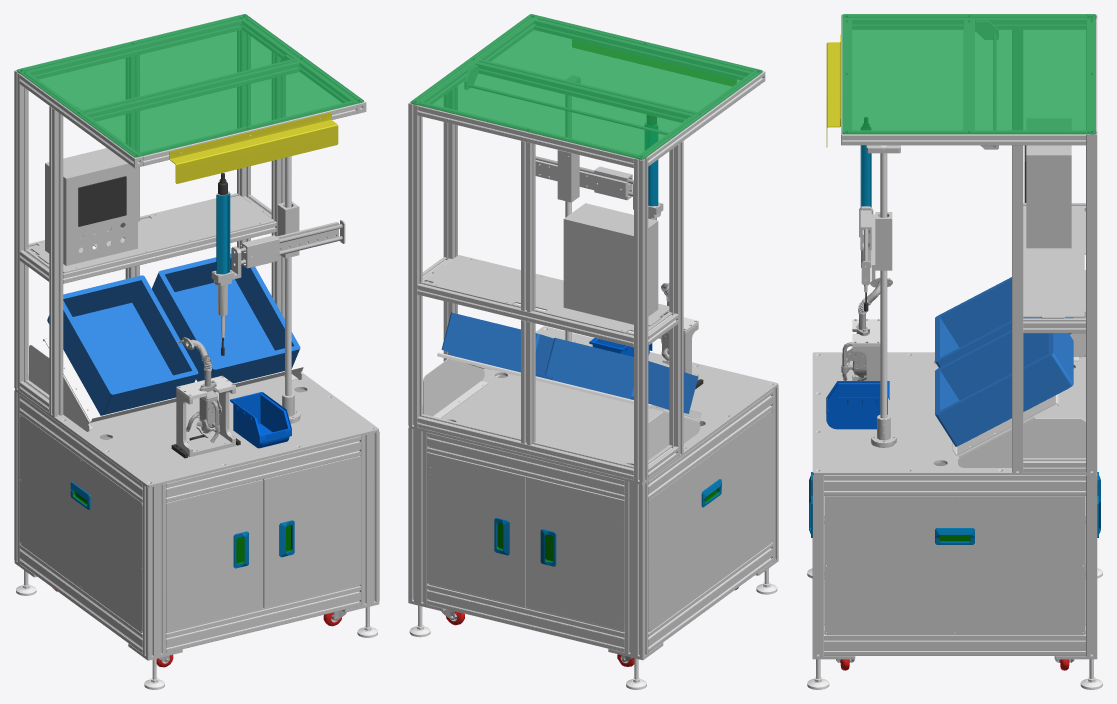
The model's file is station-01.glb.
3 renders of one model, left to right at view 1: azimuth 30°, elevation 25°; view 2: azimuth 150°, elevation 25°; view 3: azimuth 270°, elevation 25°, orthographic. The views are drawn at different scales.
Parts seen in each view (by area): view 1: part_000, part_004, part_010, part_006, part_005, part_008, part_002, part_009, part_003; view 2: part_000, part_004, part_010, part_006, part_002, part_003, part_005, part_008; view 3: part_000, part_004, part_010, part_006, part_009, part_002, part_005, part_003, part_008.
Part boxes in pixels (bbox=[...]): part_000: bbox=[14, 14, 379, 660]; part_004: bbox=[16, 14, 363, 157]; part_010: bbox=[47, 253, 300, 415]; part_006: bbox=[16, 156, 377, 689]; part_005: bbox=[169, 112, 338, 183]; part_008: bbox=[78, 173, 240, 458]; part_002: bbox=[53, 191, 346, 667]; part_009: bbox=[230, 392, 291, 448]; part_003: bbox=[70, 482, 294, 568]; part_000: bbox=[408, 14, 778, 660]; part_004: bbox=[410, 14, 762, 159]; part_010: bbox=[441, 312, 698, 413]; part_006: bbox=[409, 95, 777, 689]; part_002: bbox=[441, 84, 738, 666]; part_003: bbox=[494, 479, 721, 566]; part_005: bbox=[572, 39, 736, 86]; part_008: bbox=[645, 115, 703, 389]; part_000: bbox=[812, 14, 1097, 659]; part_004: bbox=[842, 14, 1095, 134]; part_010: bbox=[935, 277, 1073, 446]; part_006: bbox=[807, 145, 1102, 689]; part_009: bbox=[826, 381, 889, 429]; part_002: bbox=[824, 35, 1085, 670]; part_005: bbox=[826, 34, 840, 147]; part_003: bbox=[809, 472, 1100, 544]; part_008: bbox=[860, 117, 1026, 311].
Size of the model in its own units: 1.02 by 2.15 by 1.04.
